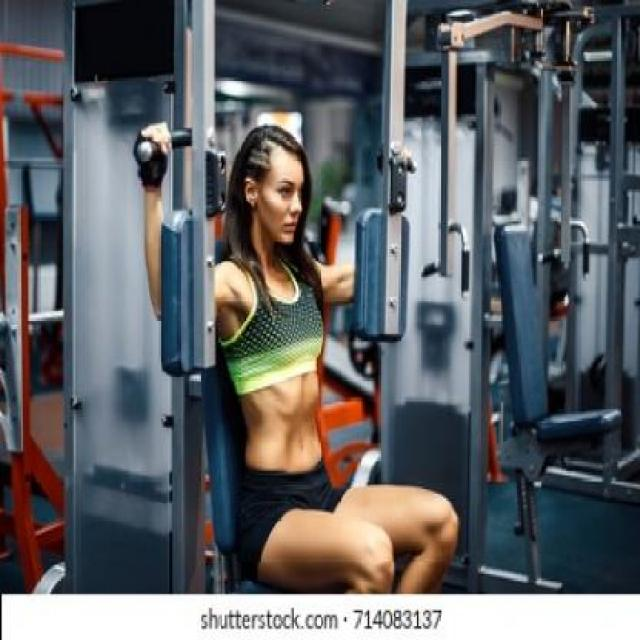chest fly machine: (115, 2, 472, 596)
